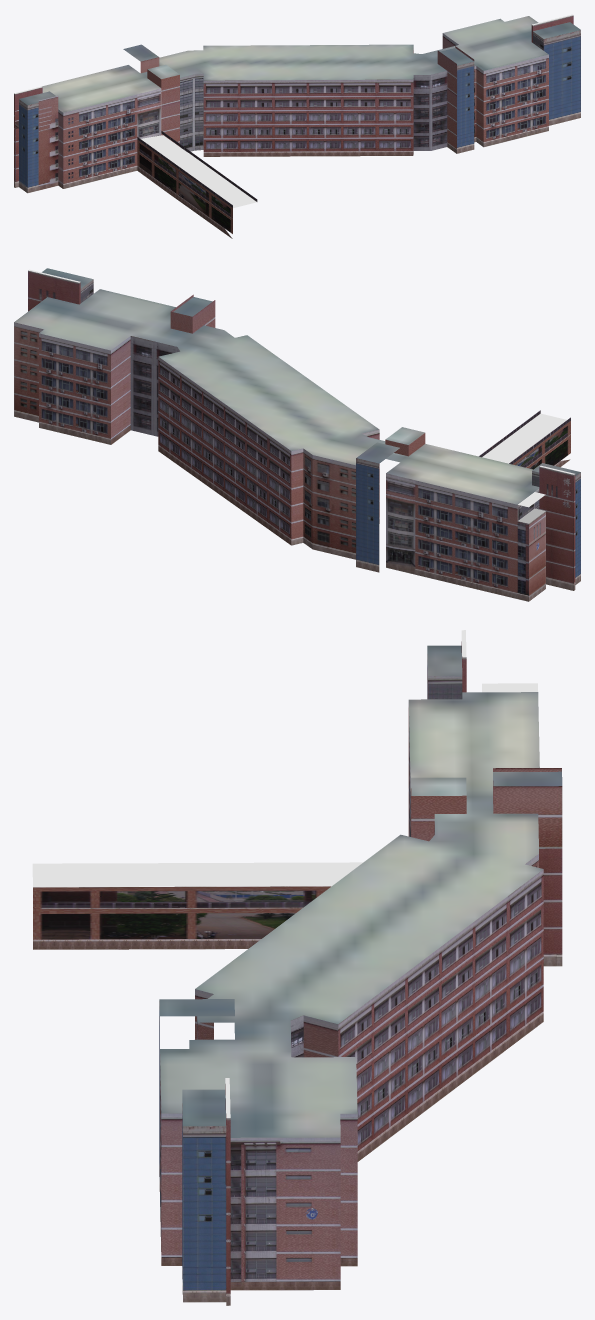
The model's file is jxl_d.gltf.
The picture shows the model from 3 angles, top to bottom: view 1: azimuth 30°, elevation 25°; view 2: azimuth 150°, elevation 25°; view 3: azimuth 270°, elevation 25°; orthographic projection. The views are drawn at different scales.
Parts seen in each view (by area): view 1: Mesh01#20; view 2: Mesh01#20; view 3: Mesh01#20.
Part boxes in pixels (<box>): Mesh01#20: <box>14,14,580,238</box>; Mesh01#20: <box>14,268,580,601</box>; Mesh01#20: <box>32,630,562,1305</box>.
Size of the model in its own units: 0.1337 by 0.024 by 0.0614.
8 materials, 6 textured.
